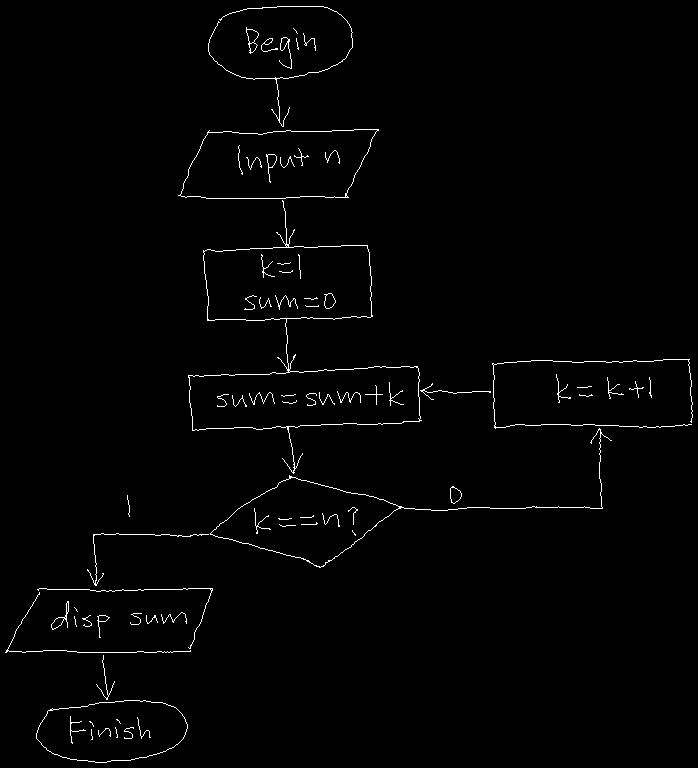arrow: (399, 428, 611, 510), (87, 533, 208, 585), (277, 318, 295, 372), (282, 426, 302, 473), (271, 77, 289, 126), (276, 200, 294, 247), (96, 655, 114, 699)
data: (178, 129, 378, 198), (5, 588, 212, 652)
decision: (210, 475, 401, 567)
process: (188, 366, 421, 430), (492, 359, 692, 428), (203, 245, 372, 320)
terminator: (208, 6, 352, 79), (36, 700, 187, 762)
text: (244, 254, 335, 309), (51, 601, 186, 637), (217, 382, 403, 406), (238, 145, 339, 182), (254, 507, 357, 535), (246, 27, 315, 68), (556, 374, 651, 402), (70, 716, 150, 743), (420, 383, 490, 399), (450, 486, 461, 503), (126, 495, 129, 516)
